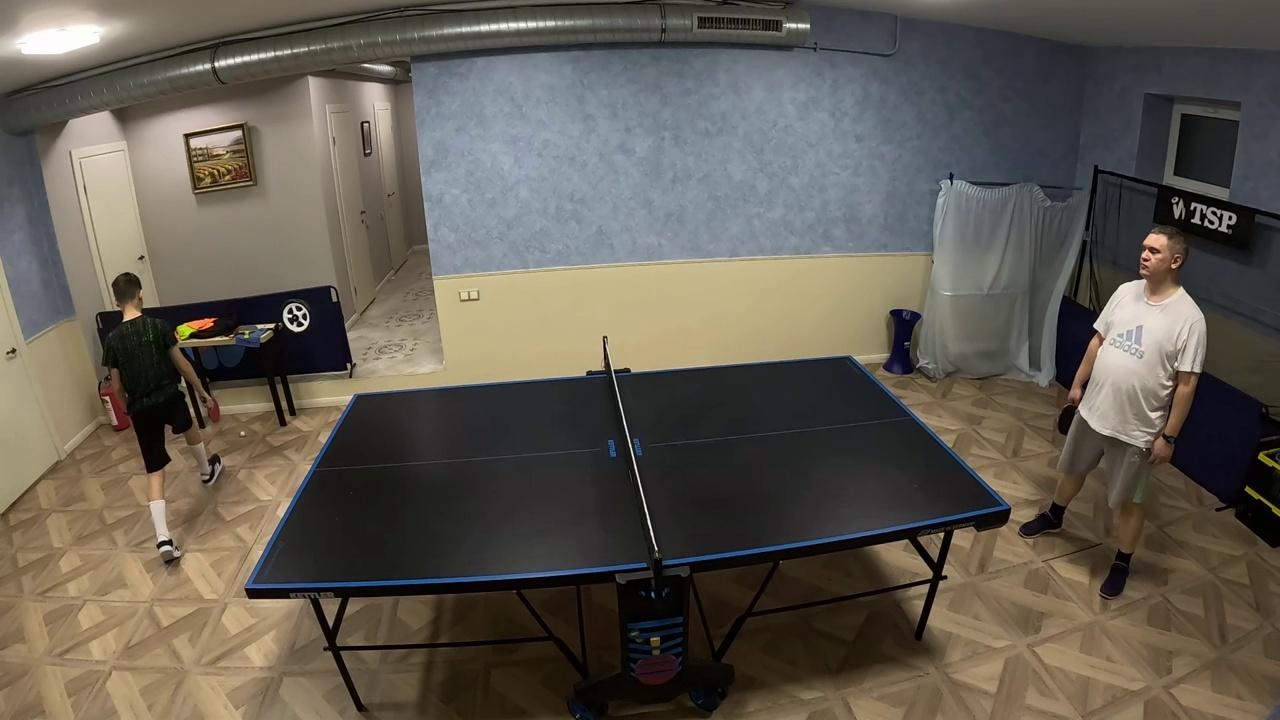Ball: (239, 430, 247, 437)
Net: (602, 336, 663, 582)
Player1: (102, 272, 222, 563)
Player2: (1017, 226, 1205, 598)
Table: (246, 372, 648, 589), (617, 356, 1008, 571)
